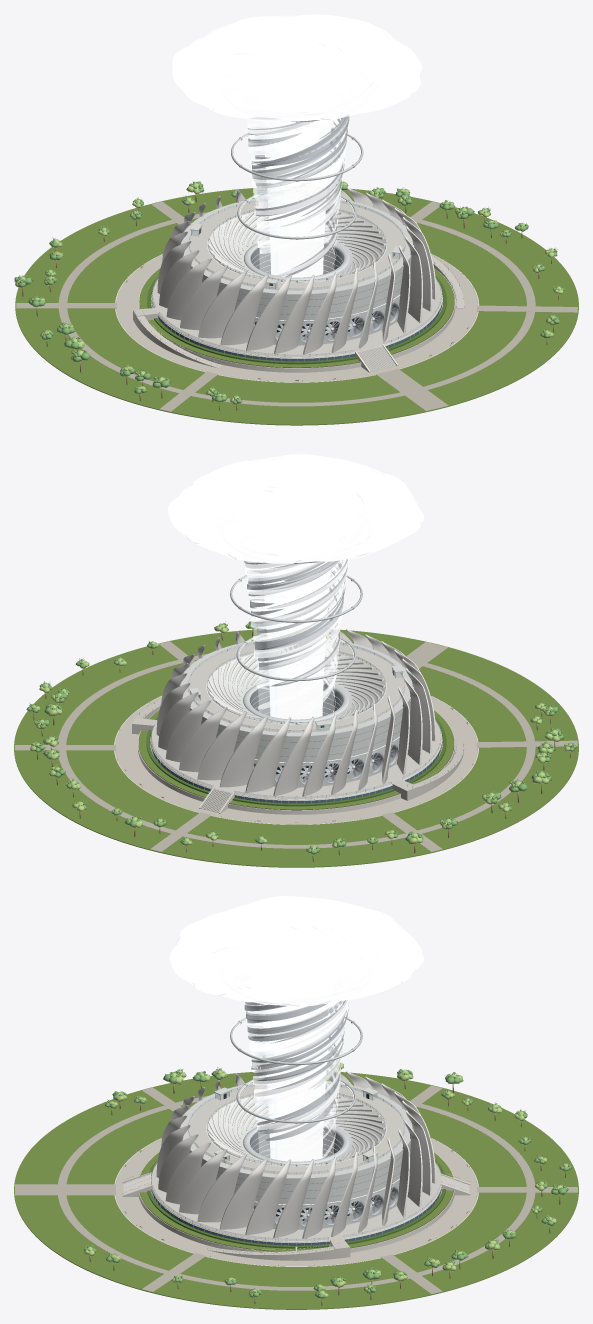
File: q11c-storm-vortex.glb
3 views of the same model, one above another, from view 1: azimuth 30°, elevation 25°; view 2: azimuth 150°, elevation 25°; view 3: azimuth 270°, elevation 25° (orthographic).
Parts seen in each view (by area): view 1: PLAZA_GROUND, VORTEX_CAP, STRUCTURE_VANES, VORTEX_STREAKS, VORTEX_FUNNEL, STRUCTURE_ROOF, DECK_WALKWAYS, STRUCTURE_DRUM, STRUCTURE_PODIUM, TURBINE_HOUSINGS, RING_MID, RING_LOW; view 2: PLAZA_GROUND, VORTEX_CAP, STRUCTURE_VANES, VORTEX_STREAKS, VORTEX_FUNNEL, STRUCTURE_ROOF, DECK_WALKWAYS, STRUCTURE_DRUM, STRUCTURE_PODIUM, TURBINE_HOUSINGS, RING_LOW, RING_MID; view 3: PLAZA_GROUND, VORTEX_CAP, STRUCTURE_VANES, VORTEX_STREAKS, VORTEX_FUNNEL, STRUCTURE_ROOF, DECK_WALKWAYS, STRUCTURE_DRUM, STRUCTURE_PODIUM, TURBINE_HOUSINGS, RING_MID, RING_LOW.
Boxes of the visible parts, x1=… form: PLAZA_GROUND: x1=15, y1=188, x2=578, y2=425; VORTEX_CAP: x1=172, y1=14, x2=421, y2=121; STRUCTURE_VANES: x1=157, y1=185, x2=436, y2=354; VORTEX_STREAKS: x1=246, y1=116, x2=349, y2=277; VORTEX_FUNNEL: x1=247, y1=118, x2=344, y2=277; STRUCTURE_ROOF: x1=207, y1=210, x2=385, y2=282; DECK_WALKWAYS: x1=152, y1=194, x2=441, y2=356; STRUCTURE_DRUM: x1=181, y1=198, x2=414, y2=345; STRUCTURE_PODIUM: x1=151, y1=278, x2=442, y2=361; TURBINE_HOUSINGS: x1=251, y1=297, x2=409, y2=343; RING_MID: x1=231, y1=133, x2=363, y2=181; RING_LOW: x1=237, y1=193, x2=356, y2=239; PLAZA_GROUND: x1=14, y1=629, x2=578, y2=867; VORTEX_CAP: x1=168, y1=454, x2=423, y2=563; STRUCTURE_VANES: x1=156, y1=627, x2=436, y2=796; VORTEX_STREAKS: x1=244, y1=559, x2=349, y2=714; VORTEX_FUNNEL: x1=246, y1=559, x2=345, y2=719; STRUCTURE_ROOF: x1=207, y1=651, x2=385, y2=724; DECK_WALKWAYS: x1=151, y1=636, x2=441, y2=798; STRUCTURE_DRUM: x1=180, y1=639, x2=413, y2=787; STRUCTURE_PODIUM: x1=150, y1=720, x2=442, y2=803; TURBINE_HOUSINGS: x1=250, y1=739, x2=409, y2=785; RING_LOW: x1=236, y1=633, x2=356, y2=681; RING_MID: x1=230, y1=571, x2=362, y2=623; PLAZA_GROUND: x1=14, y1=1072, x2=578, y2=1309; VORTEX_CAP: x1=170, y1=896, x2=423, y2=1006; STRUCTURE_VANES: x1=156, y1=1070, x2=436, y2=1238; VORTEX_STREAKS: x1=244, y1=1000, x2=349, y2=1160; VORTEX_FUNNEL: x1=246, y1=1001, x2=344, y2=1161; STRUCTURE_ROOF: x1=207, y1=1093, x2=385, y2=1166; DECK_WALKWAYS: x1=152, y1=1082, x2=440, y2=1240; STRUCTURE_DRUM: x1=180, y1=1081, x2=413, y2=1229; STRUCTURE_PODIUM: x1=151, y1=1162, x2=441, y2=1246; TURBINE_HOUSINGS: x1=250, y1=1181, x2=409, y2=1227; RING_MID: x1=230, y1=1012, x2=362, y2=1065; RING_LOW: x1=236, y1=1075, x2=356, y2=1123.
Bounding box in the file's own units: 260 × 126 × 260.
